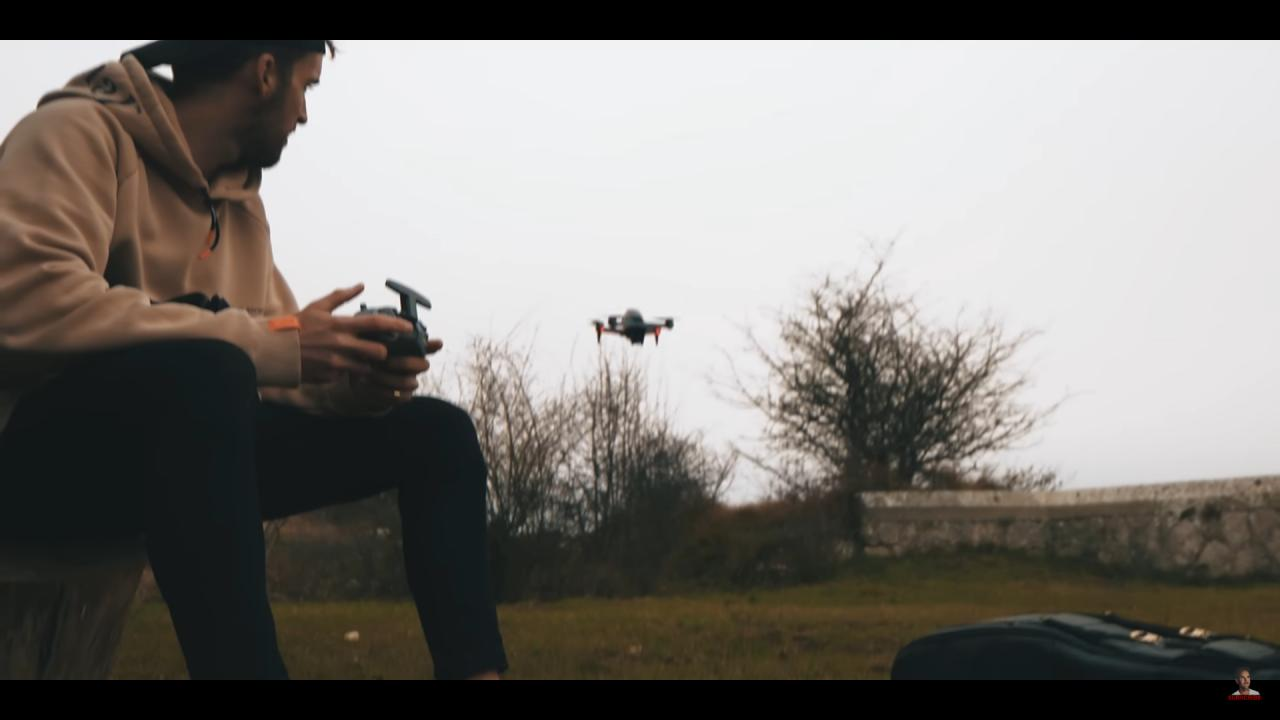Drone: (577, 297, 684, 358)
